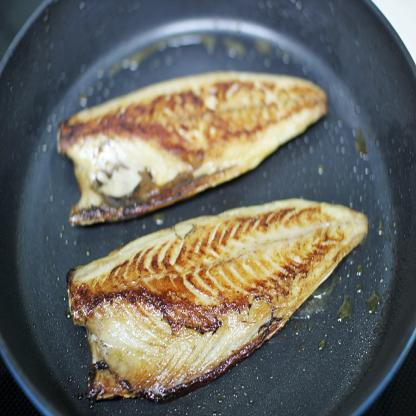Peixe: (56, 170, 366, 416), (49, 43, 328, 227)
